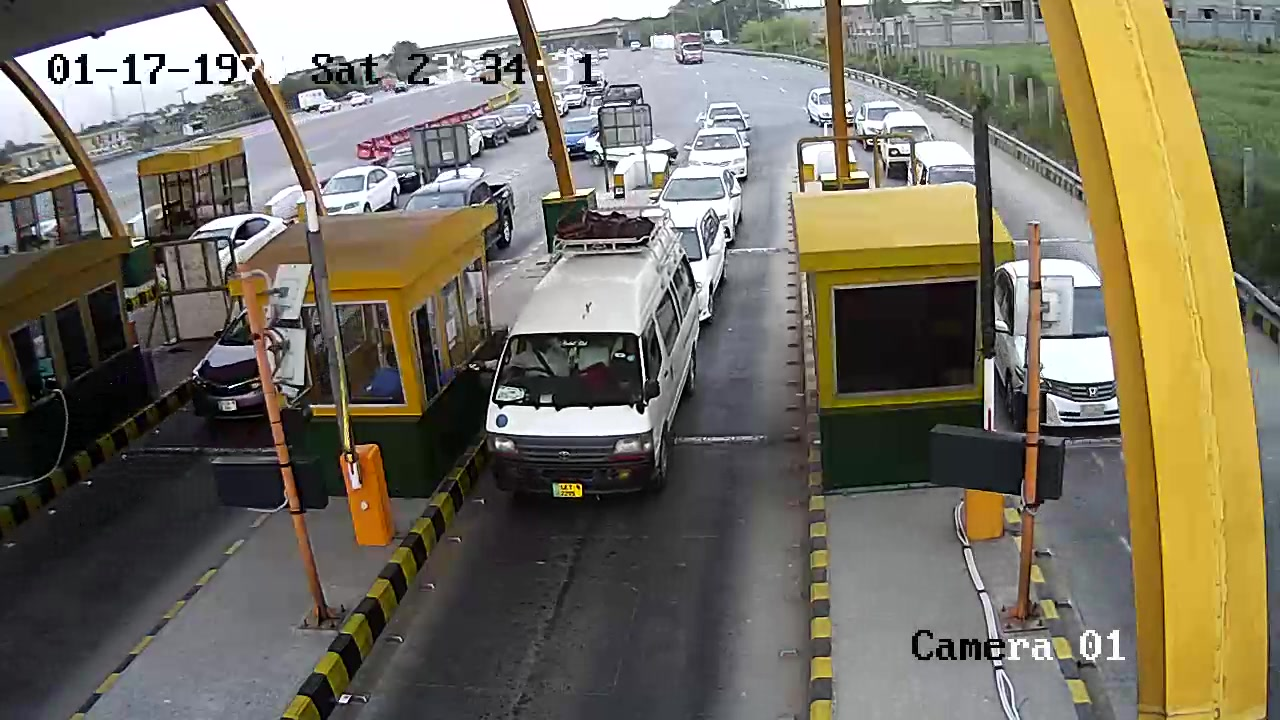F2: (489, 204, 703, 506)
